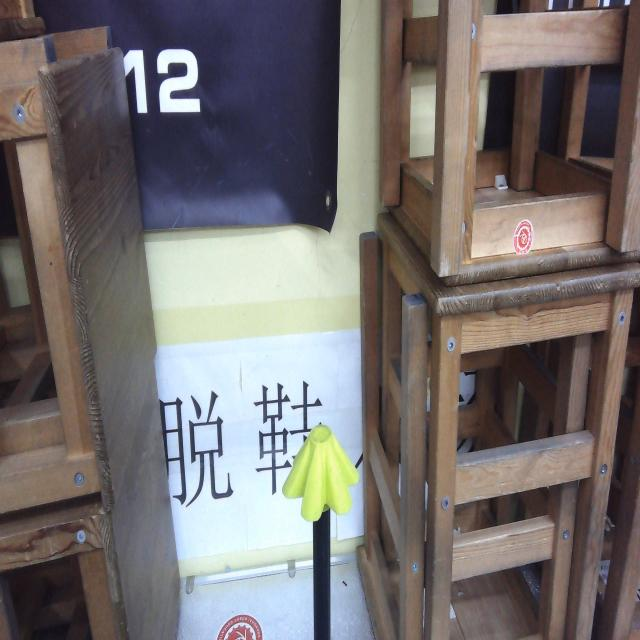Yellow-Stake-Head: (282, 425, 360, 523)
